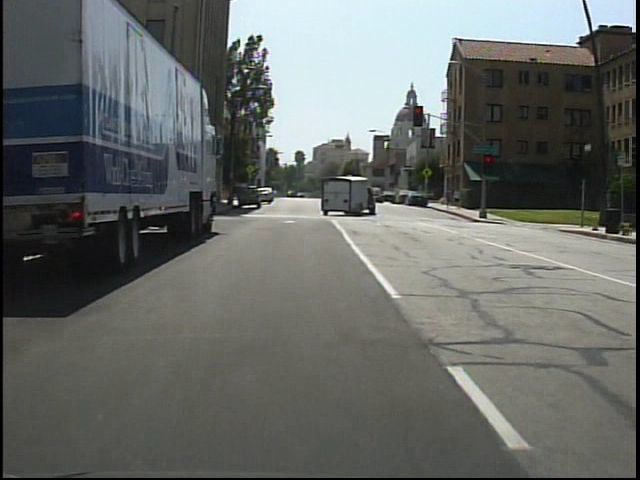person: (452, 184, 464, 210), (442, 184, 454, 209)
